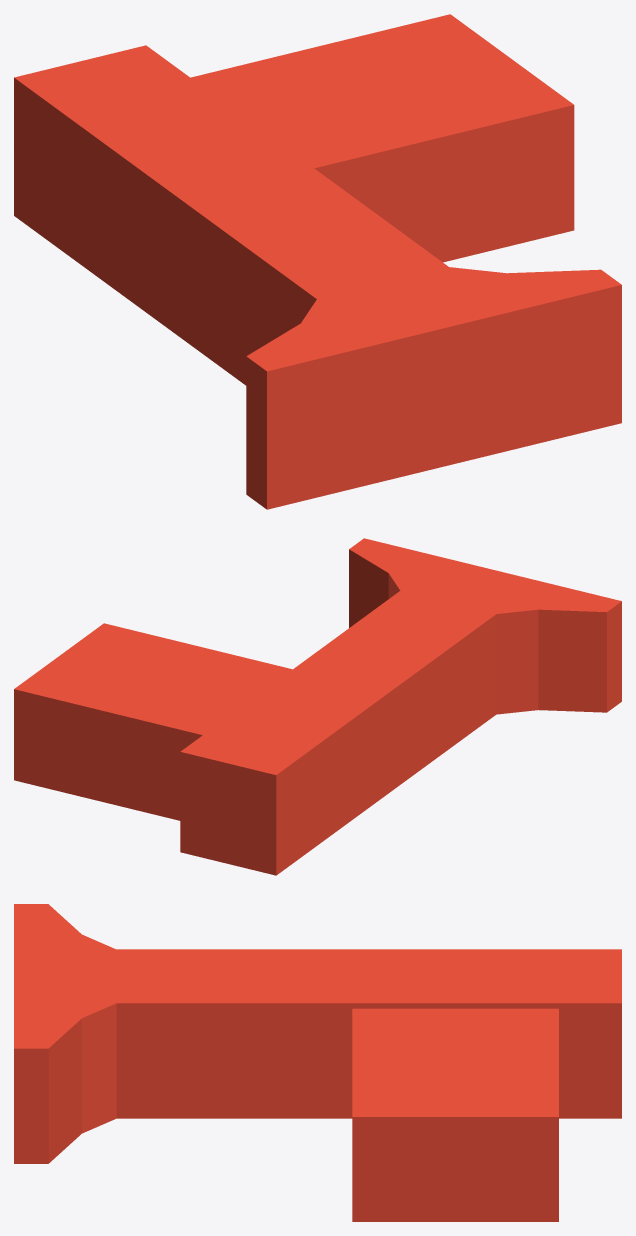
Rendered from Part1 RedFlag.fbx.
3 views of the same model, one above another, from view 1: azimuth 30°, elevation 25°; view 2: azimuth 150°, elevation 25°; view 3: azimuth 270°, elevation 25° (orthographic). The views are drawn at different scales.
Visible parts, largest first — view 1: RedFlag; view 2: RedFlag; view 3: RedFlag.
Boxes of the visible parts, x1,y1,x2,y2 form: RedFlag: (14,14,621,509); RedFlag: (14,538,621,875); RedFlag: (14,904,621,1221).
Size of the model in its own units: 57.9 by 15 by 71.64.
